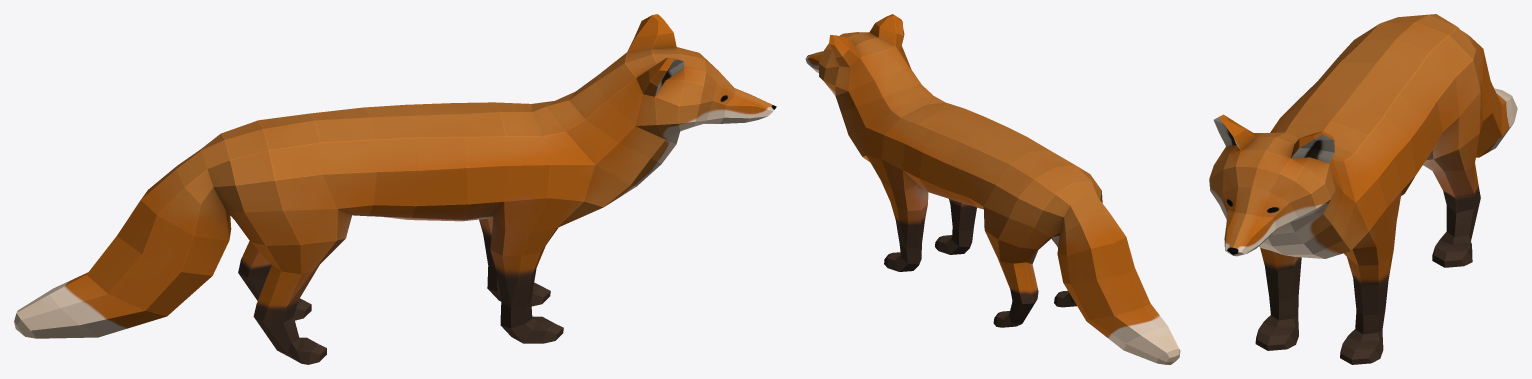
The model's file is fox_mesh.001_lev1_lev2.glb.
3 renders of one model, left to right at view 1: azimuth 30°, elevation 25°; view 2: azimuth 150°, elevation 25°; view 3: azimuth 270°, elevation 25°, orthographic. The views are drawn at different scales.
Parts seen in each view (by area): view 1: fox_mesh.001_lev1_lev2; view 2: fox_mesh.001_lev1_lev2; view 3: fox_mesh.001_lev1_lev2.
Boxes of the visible parts, bbox=[...] form: fox_mesh.001_lev1_lev2: bbox=[14, 14, 776, 364]; fox_mesh.001_lev1_lev2: bbox=[805, 14, 1180, 364]; fox_mesh.001_lev1_lev2: bbox=[1209, 14, 1517, 364].
Size of the model in its own units: 5.27 by 2.16 by 2.17.
Materials: 1 (1 with a texture image).
